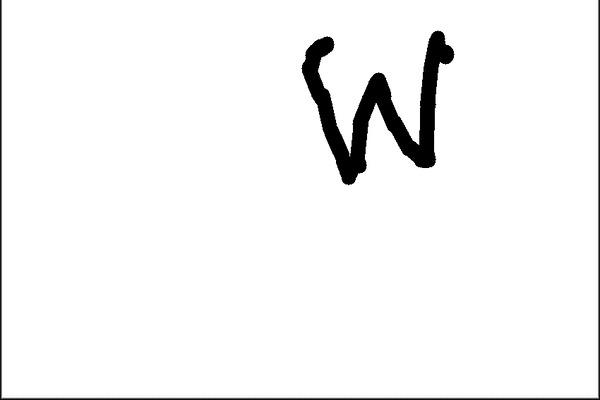w: (291, 14, 466, 201)
